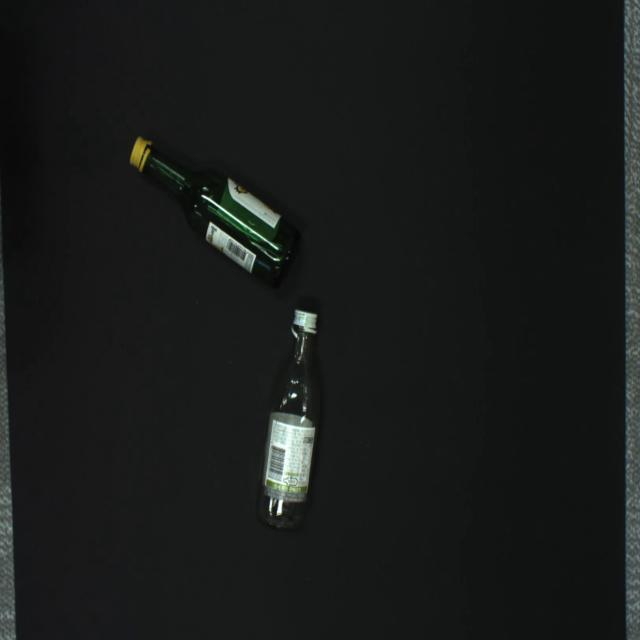soju-bottle: (128, 136, 300, 287), (254, 308, 322, 531)
